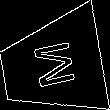M_W: (27, 38, 78, 93)
